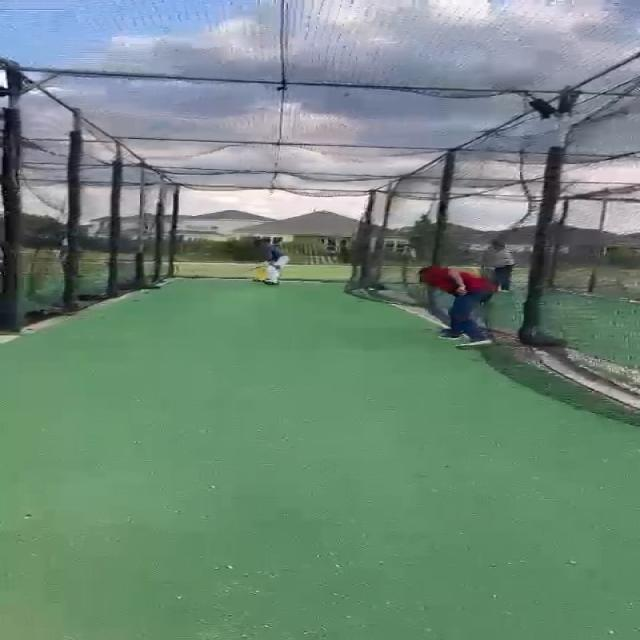batsman: (241, 237, 292, 286)
